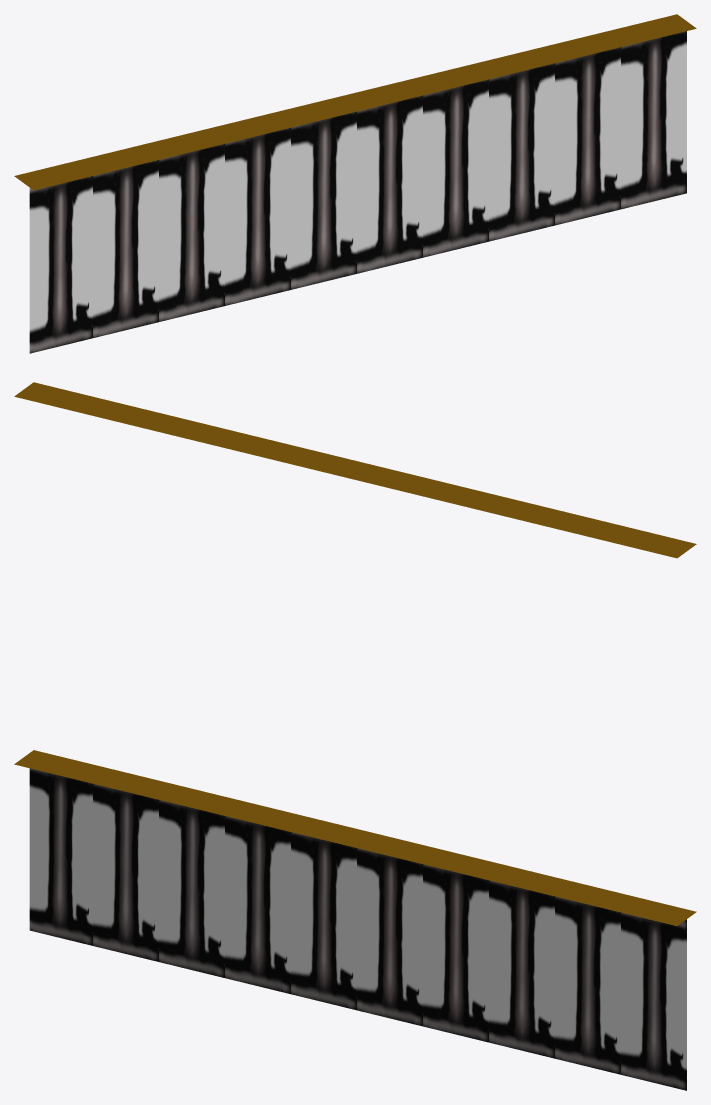
File: Geländer2_Hoch [MetallStäbe]_963.glb
The picture shows the model from 3 angles, top to bottom: view 1: azimuth 30°, elevation 25°; view 2: azimuth 150°, elevation 25°; view 3: azimuth 330°, elevation 25°; orthographic projection.
Parts seen in each view (by area): view 1: pPlaneShape223, pPlaneShape224; view 2: pPlaneShape224; view 3: pPlaneShape223, pPlaneShape224.
Boxes of the visible parts, bbox=[...] form: pPlaneShape223: bbox=[29, 31, 686, 353]; pPlaneShape224: bbox=[14, 14, 696, 190]; pPlaneShape224: bbox=[14, 382, 696, 558]; pPlaneShape223: bbox=[29, 768, 686, 1090]; pPlaneShape224: bbox=[14, 750, 696, 925].
Size of the model in its own units: 0.4724 by 0.117 by 0.0243.
2 materials, 1 textured.
